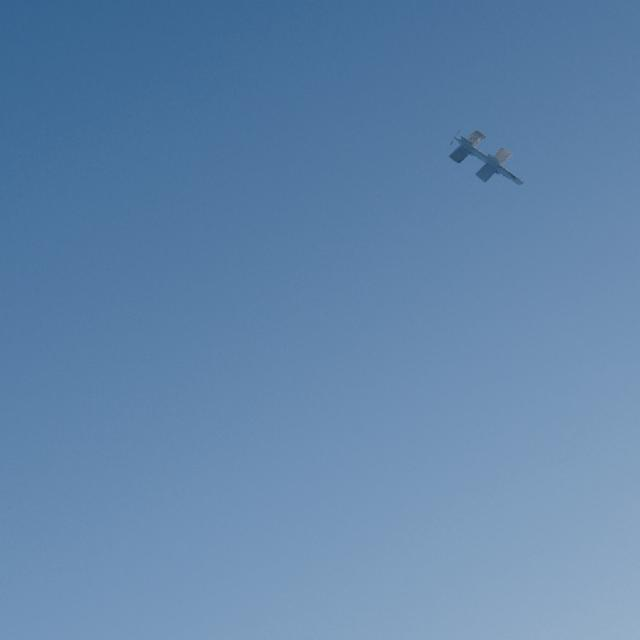Airaplan: (449, 130, 524, 185)
